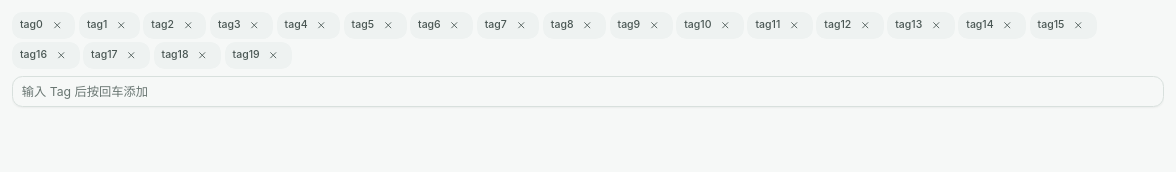
Test case: TagInput — Tag 多选输入组件 › 已达上限（20）时再输入 → 显示超量错误，不添加
Step 1. Type "overflow" into the field with placeholder "输入 Tag 后按回车添加" → (588, 91), box [12,76,1164,107]
Then press Enter
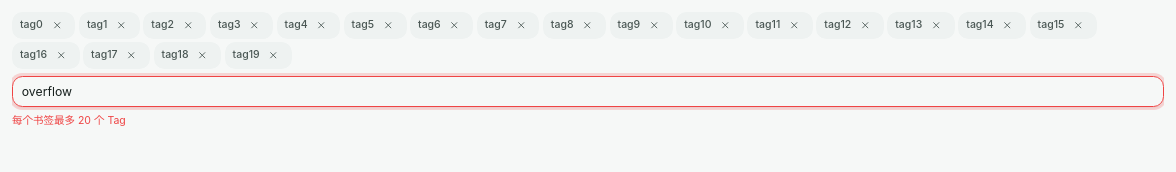
Check: the text "每个书签最多 20 个 Tag" is shown, box [12,114,126,127]
